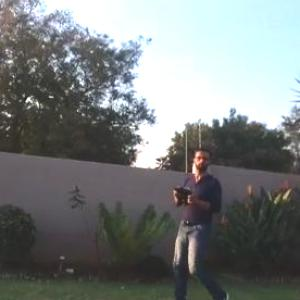follow: (154, 138, 233, 299)
